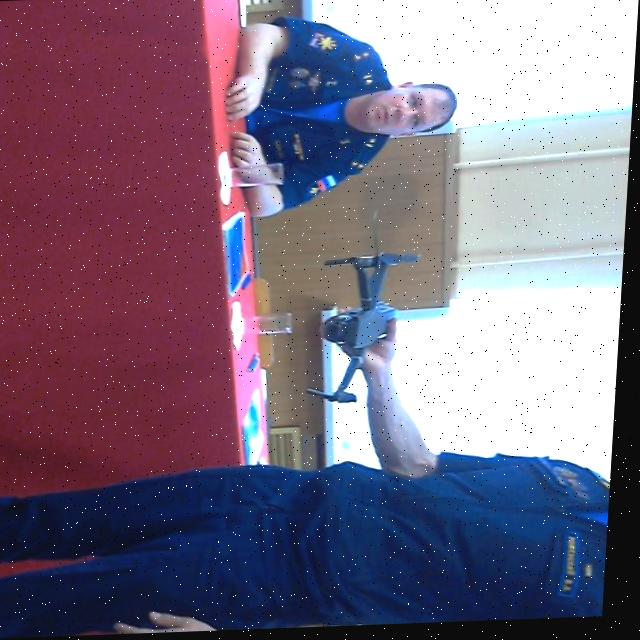drone: (302, 225, 447, 419)
